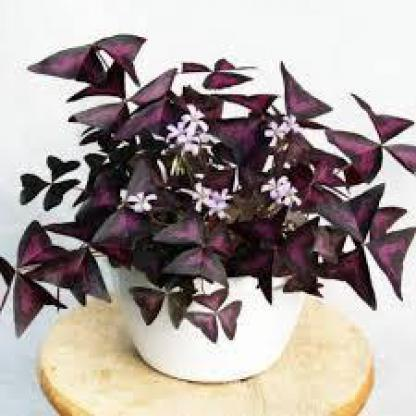Kupu-Kupu: (339, 190, 410, 303), (95, 67, 182, 149), (136, 277, 241, 343), (55, 40, 140, 101), (339, 110, 415, 173), (175, 212, 245, 275), (184, 57, 260, 92)
